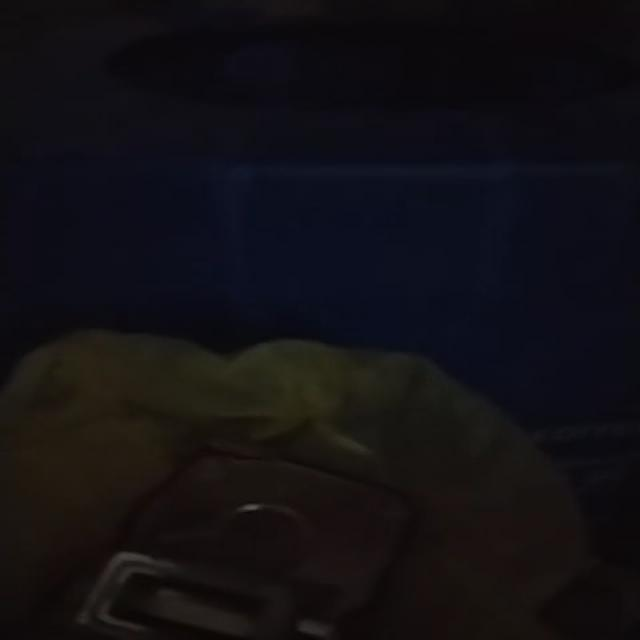bin: (2, 0, 640, 568)
metal: (76, 456, 413, 640)
